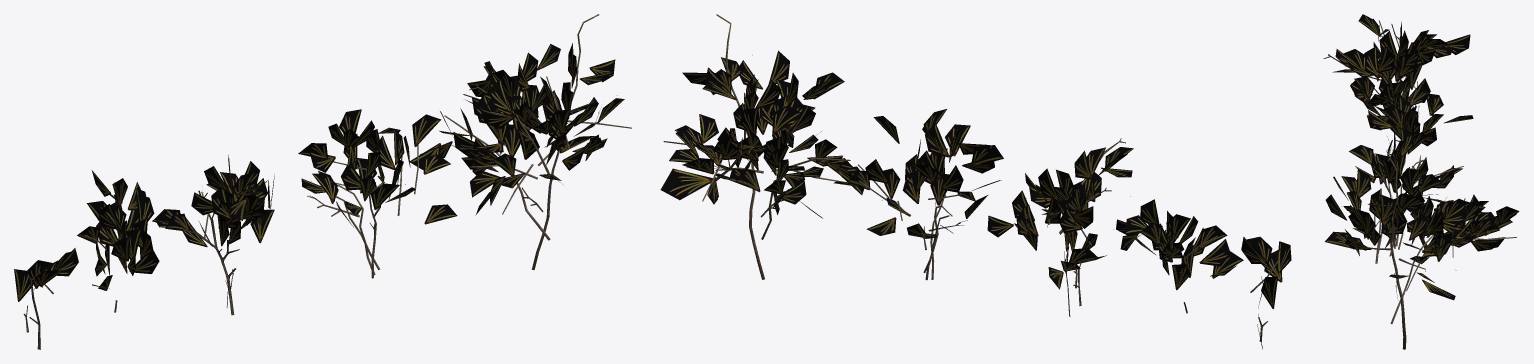
Rendered from wild_rooibos_bush.glb.
3 renders of one model, left to right at view 1: azimuth 30°, elevation 25°; view 2: azimuth 150°, elevation 25°; view 3: azimuth 270°, elevation 25°, orthographic. The views are drawn at different scales.
Parts seen in each view (by area): view 1: wild_rooibos_bush_a, wild_rooibos_bush_b, wild_rooibos_bush_c, wild_rooibos_bush_d, wild_rooibos_bush_e; view 2: wild_rooibos_bush_a, wild_rooibos_bush_b, wild_rooibos_bush_c, wild_rooibos_bush_d, wild_rooibos_bush_e; view 3: wild_rooibos_bush_a, wild_rooibos_bush_c, wild_rooibos_bush_b, wild_rooibos_bush_d, wild_rooibos_bush_e.
Boxes of the visible parts, <box> form: wild_rooibos_bush_a: <box>410,14,631,269</box>; wild_rooibos_bush_b: <box>298,109,457,278</box>; wild_rooibos_bush_c: <box>152,155,274,315</box>; wild_rooibos_bush_d: <box>77,170,159,312</box>; wild_rooibos_bush_e: <box>14,248,78,349</box>; wild_rooibos_bush_a: <box>660,14,864,279</box>; wild_rooibos_bush_b: <box>833,109,1003,280</box>; wild_rooibos_bush_c: <box>987,138,1133,316</box>; wild_rooibos_bush_d: <box>1116,199,1243,313</box>; wild_rooibos_bush_e: <box>1241,236,1291,349</box>; wild_rooibos_bush_a: <box>1325,157,1519,349</box>; wild_rooibos_bush_c: <box>1323,46,1473,192</box>; wild_rooibos_bush_b: <box>1349,93,1463,249</box>; wild_rooibos_bush_d: <box>1366,24,1470,92</box>; wild_rooibos_bush_e: <box>1358,14,1405,82</box>.
Size of the model in its own units: 2.18 by 0.8368 by 0.7083.
3 materials, 3 textured.
